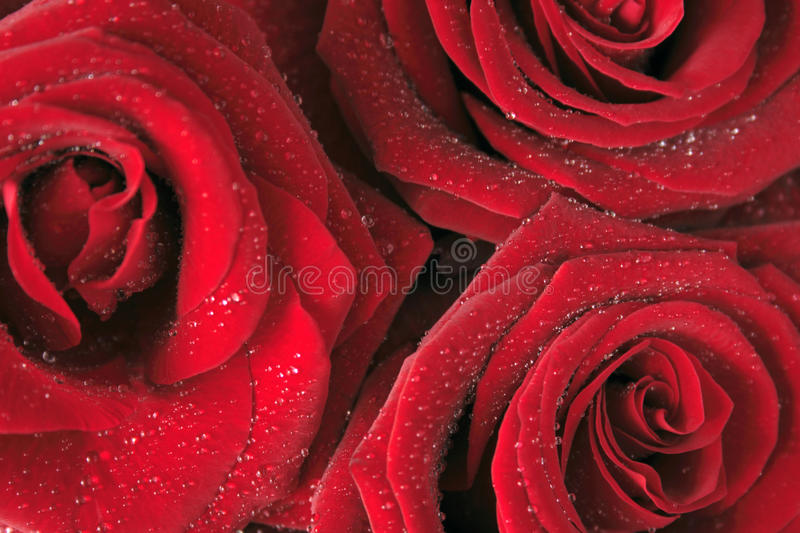RedRose: (0, 26, 395, 471), (302, 212, 800, 533), (340, 6, 798, 232)
